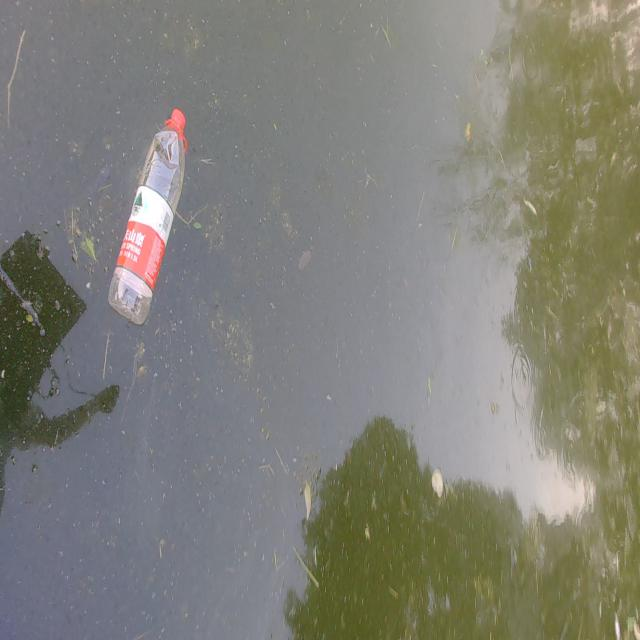Bottle: (105, 108, 195, 327)
